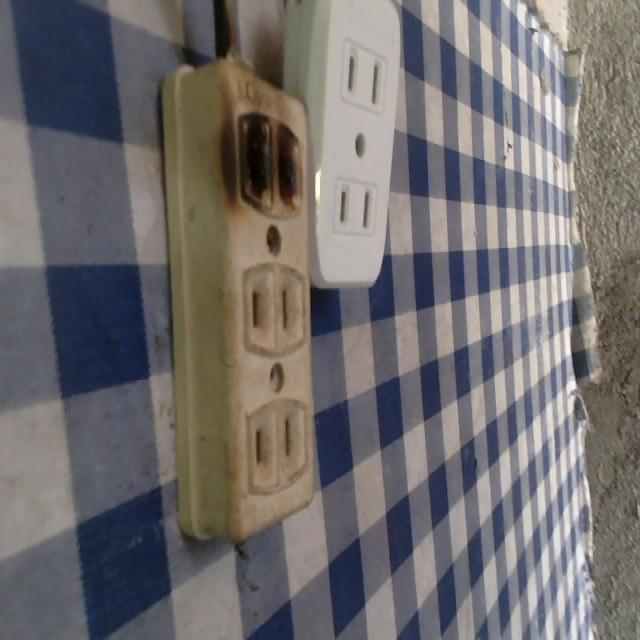-: (218, 93, 308, 231)
